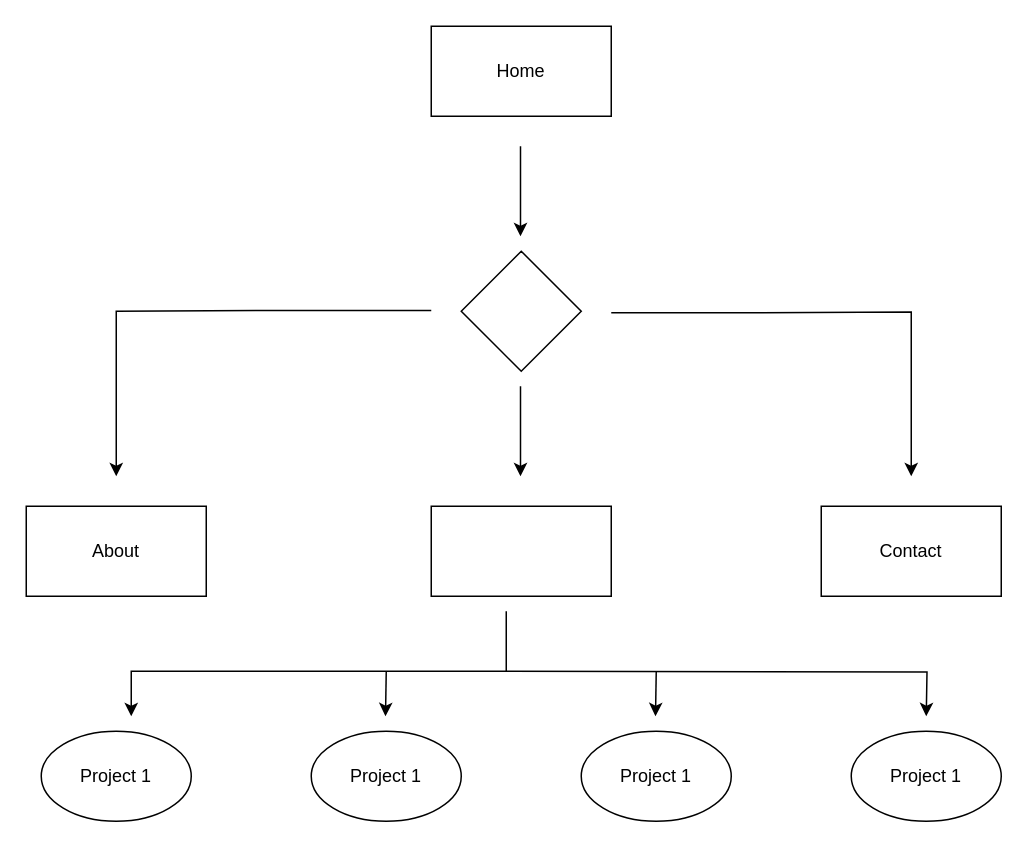
The diagram is 1028 pixels wide and 848 high, and some of its shapes have lost their labels. The centre of each missing label's shape, as x and y in pixels:
"Navbar" belongs at [520,310].
"Projects" belongs at [520,550].
